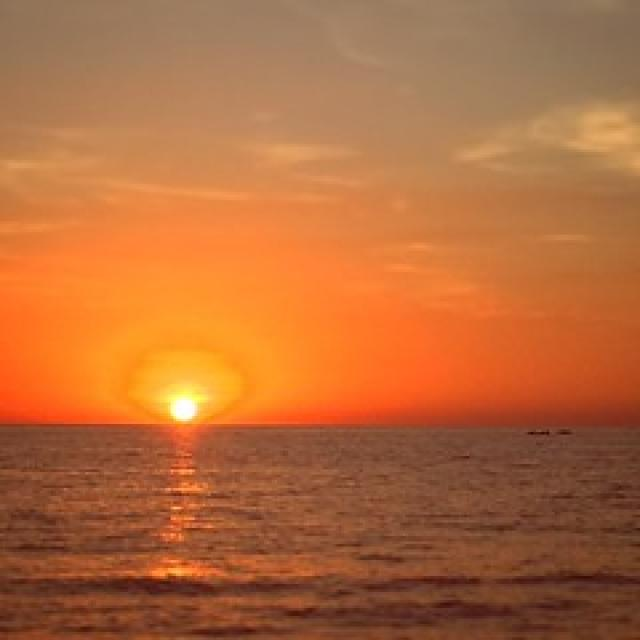sun: (159, 386, 208, 432)
